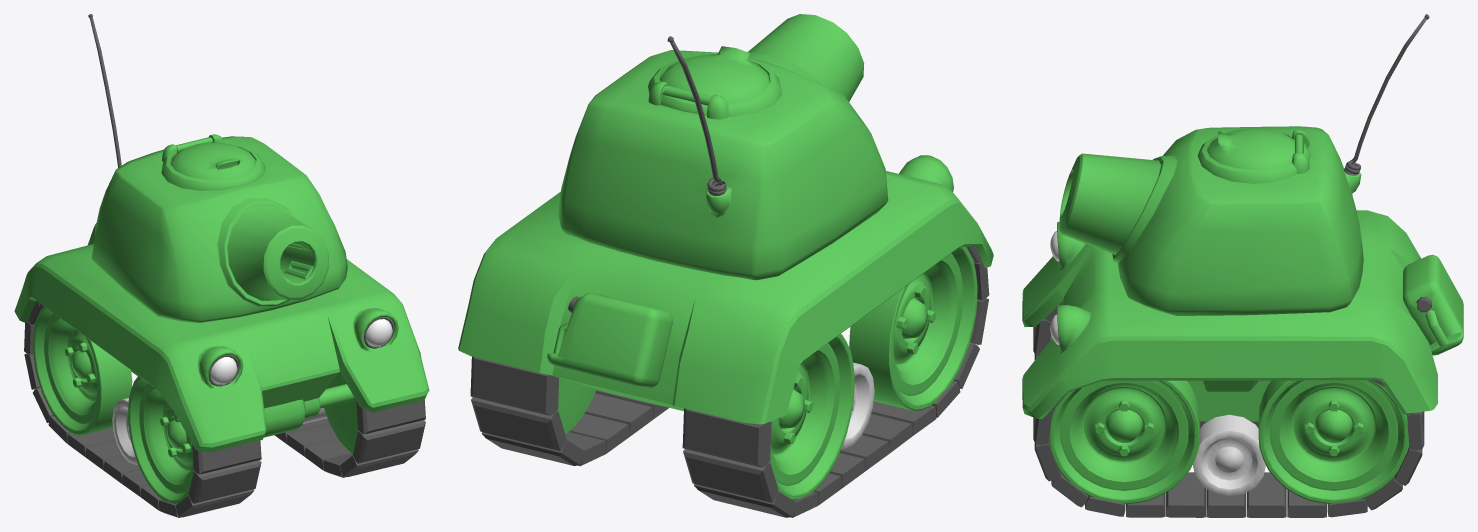
Rendered from Tank.fbx.
The picture shows the model from 3 angles, left to right: view 1: azimuth 30°, elevation 25°; view 2: azimuth 150°, elevation 25°; view 3: azimuth 270°, elevation 25°; orthographic projection. The views are drawn at different scales.
Visible parts, largest first — view 1: TankChassis, TankTurret, TankTracksRight, TankTracksLeft; view 2: TankChassis, TankTurret, TankTracksRight, TankTracksLeft; view 3: TankChassis, TankTurret, TankTracksLeft, TankTracksRight.
Boxes of the visible parts, x1,y1,x2,y2 form: TankChassis: (14,223,429,464); TankTurret: (88,14,347,322); TankTracksRight: (24,301,261,517); TankTracksLeft: (274,372,425,477); TankChassis: (458,155,993,448); TankTurret: (558,14,888,280); TankTracksRight: (682,246,989,517); TankTracksLeft: (470,356,668,466); TankChassis: (1022,210,1463,496); TankTurret: (1059,14,1429,315); TankTracksLeft: (1033,380,1424,517); TankTracksRight: (1033,302,1258,428).
Bounding box in the file's own units: 170 × 249 × 237.
